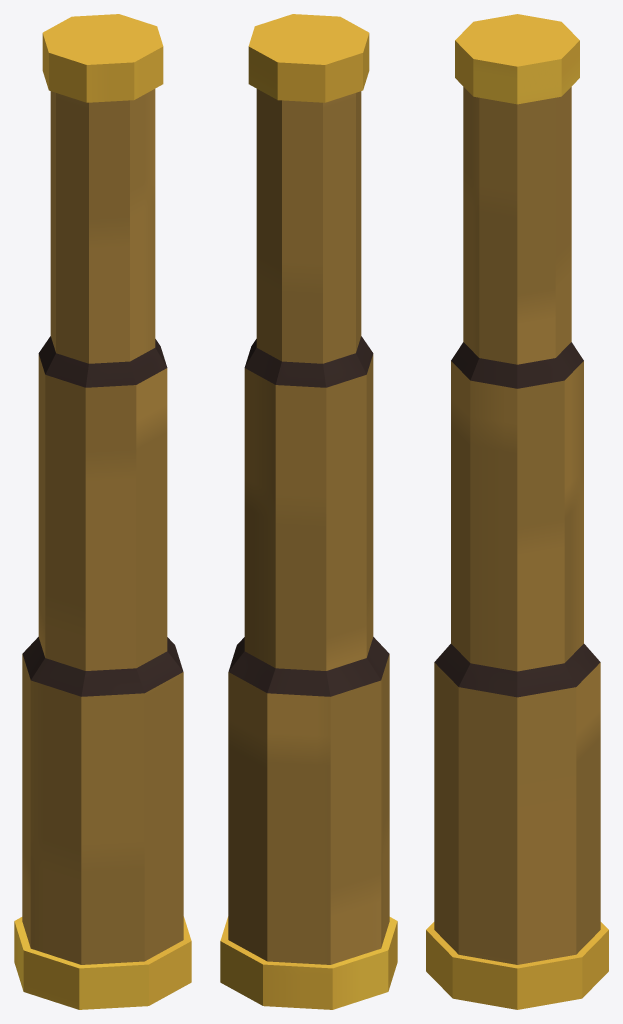
Rendered from SM_Prop_Spyglass_HQ.glb.
3 views of the same model, side by side, from view 1: azimuth 30°, elevation 25°; view 2: azimuth 150°, elevation 25°; view 3: azimuth 270°, elevation 25° (orthographic).
Visible parts, largest first — view 1: SM_Prop_Spyglass_HQ; view 2: SM_Prop_Spyglass_HQ; view 3: SM_Prop_Spyglass_HQ.
Boxes of the visible parts, box(x1,y1,x2,y2) form: SM_Prop_Spyglass_HQ: box(14, 14, 191, 1009); SM_Prop_Spyglass_HQ: box(220, 14, 397, 1009); SM_Prop_Spyglass_HQ: box(426, 14, 608, 1009).
Size of the model in its own units: 0.088 by 0.494 by 0.088.
1 material, 1 textured.
